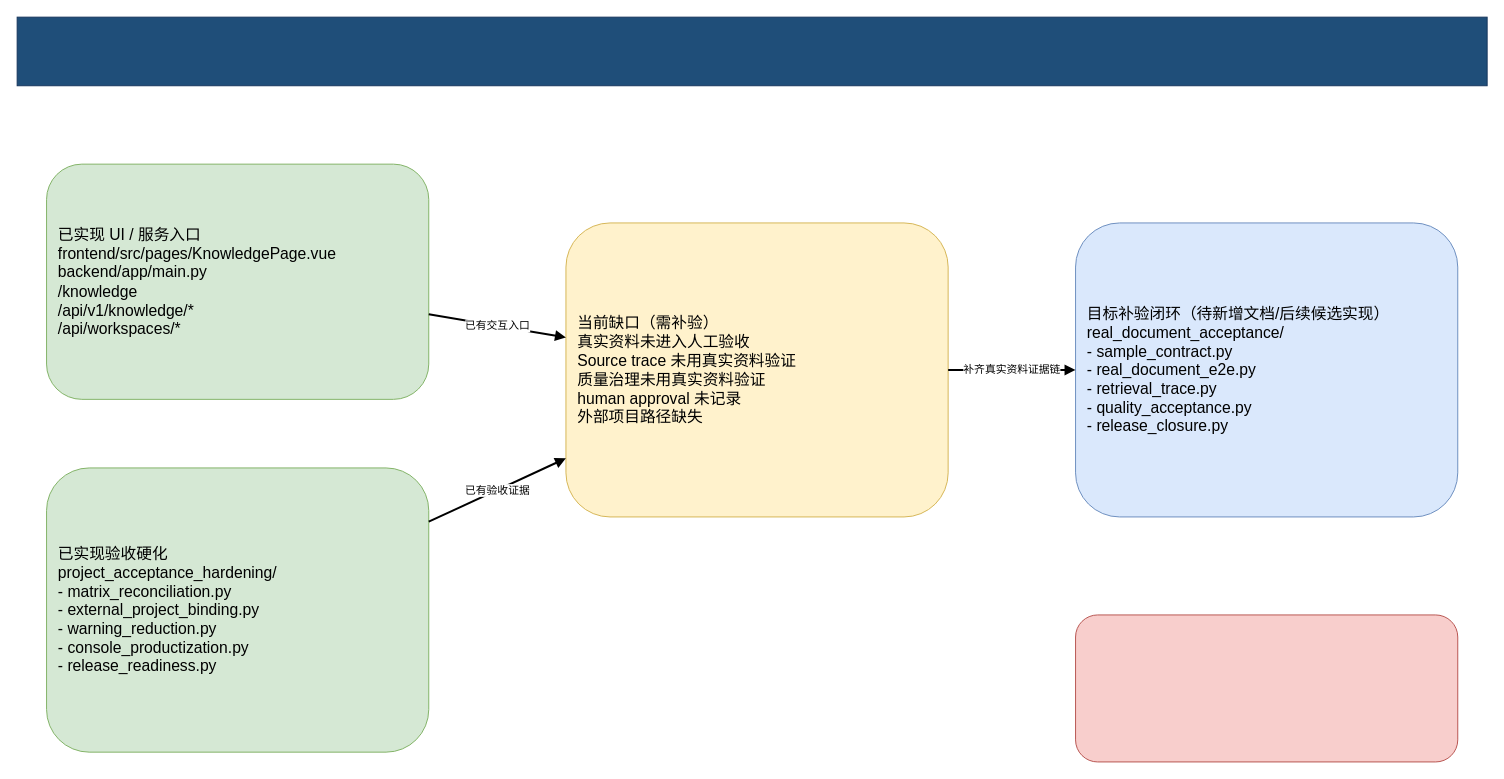
Some shapes in this 1504 by 779 pixel diagram are drawn without their labels. Each missing label, with the box of its shape:
受保护，不默认修改 backend/app/api/v1/data_service.py backend/data_service/service.py: (1075, 614, 1458, 762)
当前架构到目标架构：复用知识运营台与验收硬化证据，新增真实资料补验闭环: (16, 16, 1487, 86)
